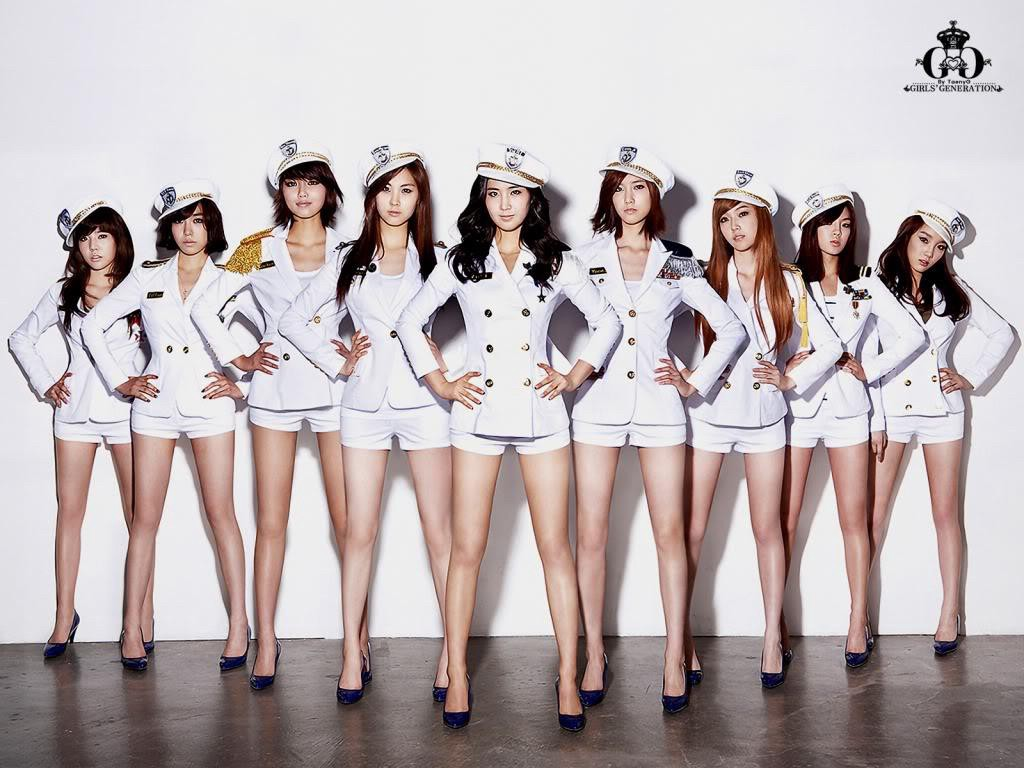people: (455, 146, 582, 717), (242, 136, 370, 677), (341, 142, 461, 698), (584, 140, 692, 727), (132, 180, 253, 664), (37, 193, 153, 677), (702, 169, 795, 716), (882, 188, 979, 649), (790, 175, 876, 675)
